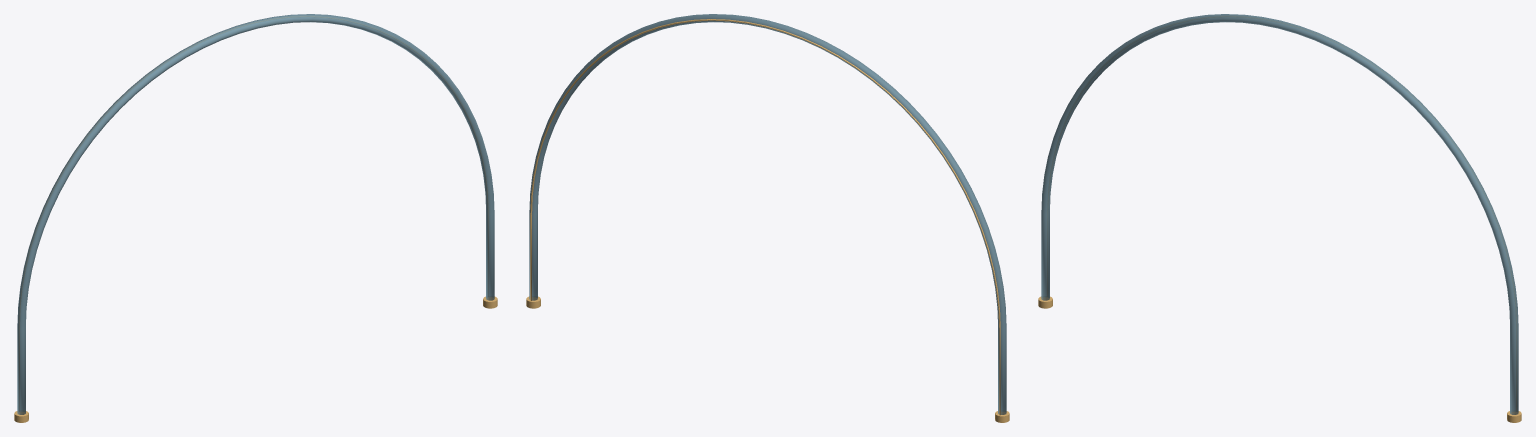
The model's file is threshold-checkpoint-ring-lod0.glb.
3 views of the same model, side by side, from view 1: azimuth 30°, elevation 25°; view 2: azimuth 150°, elevation 25°; view 3: azimuth 330°, elevation 25° (orthographic).
Visible parts, largest first — view 1: frame; view 2: frame; view 3: frame.
Boxes of the visible parts, <box> form: frame: <box>14,14,497,422</box>; frame: <box>526,14,1009,422</box>; frame: <box>1038,14,1521,422</box>.
Size of the model in its own units: 15.2 by 10.32 by 0.4.
